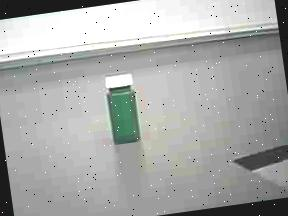Bottle C: (90, 65, 154, 156)
